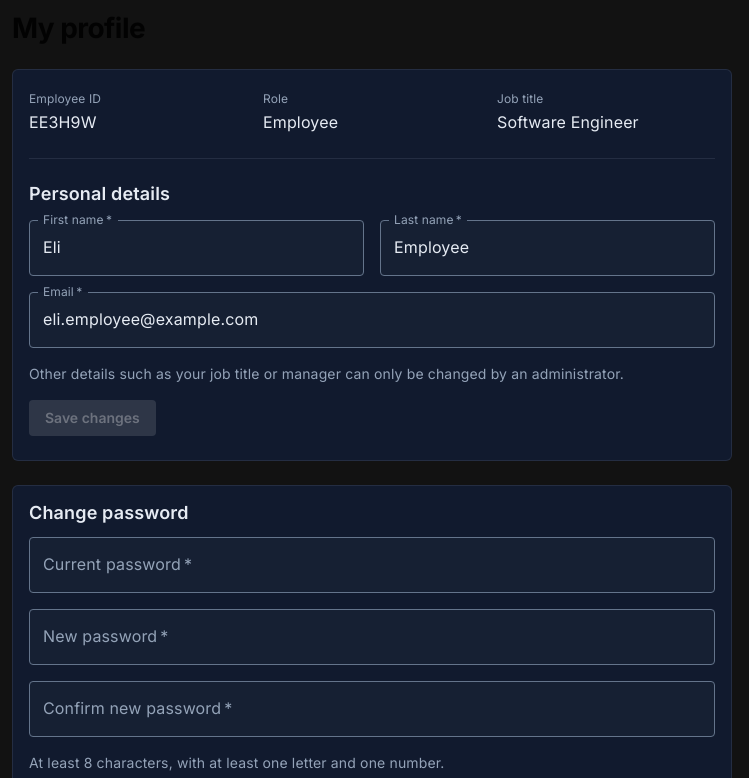
Test: ProfilePage › validates the email format
Replace the text in the field labelled "Email *" with "not-an-email" at (372,320), box x1=29 y1=292 x2=715 y2=348
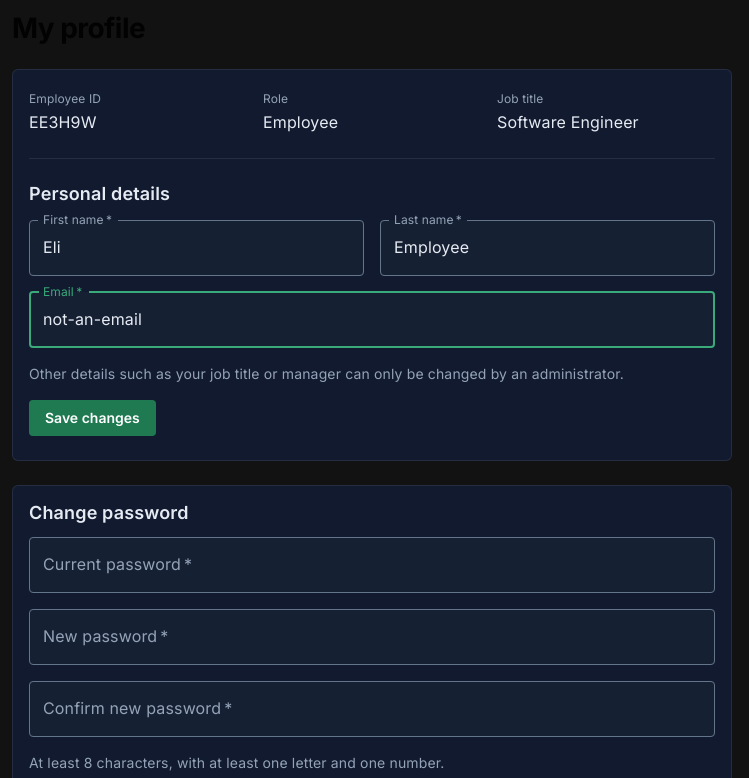
Click the button "Save changes" at (92,418), box x1=29 y1=400 x2=156 y2=436
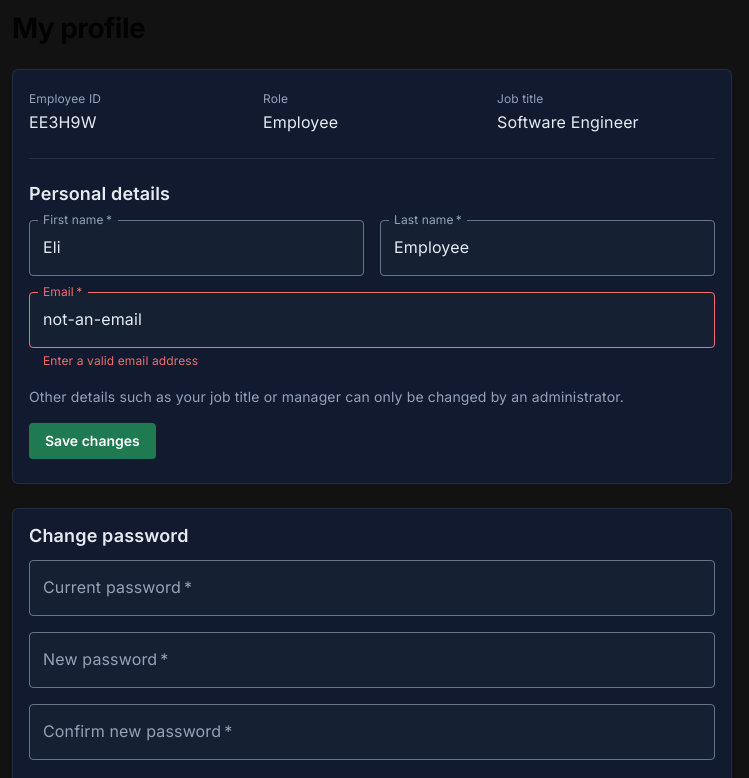
Check: the text "Enter a valid email address" is shown, box x1=43 y1=353 x2=198 y2=368
